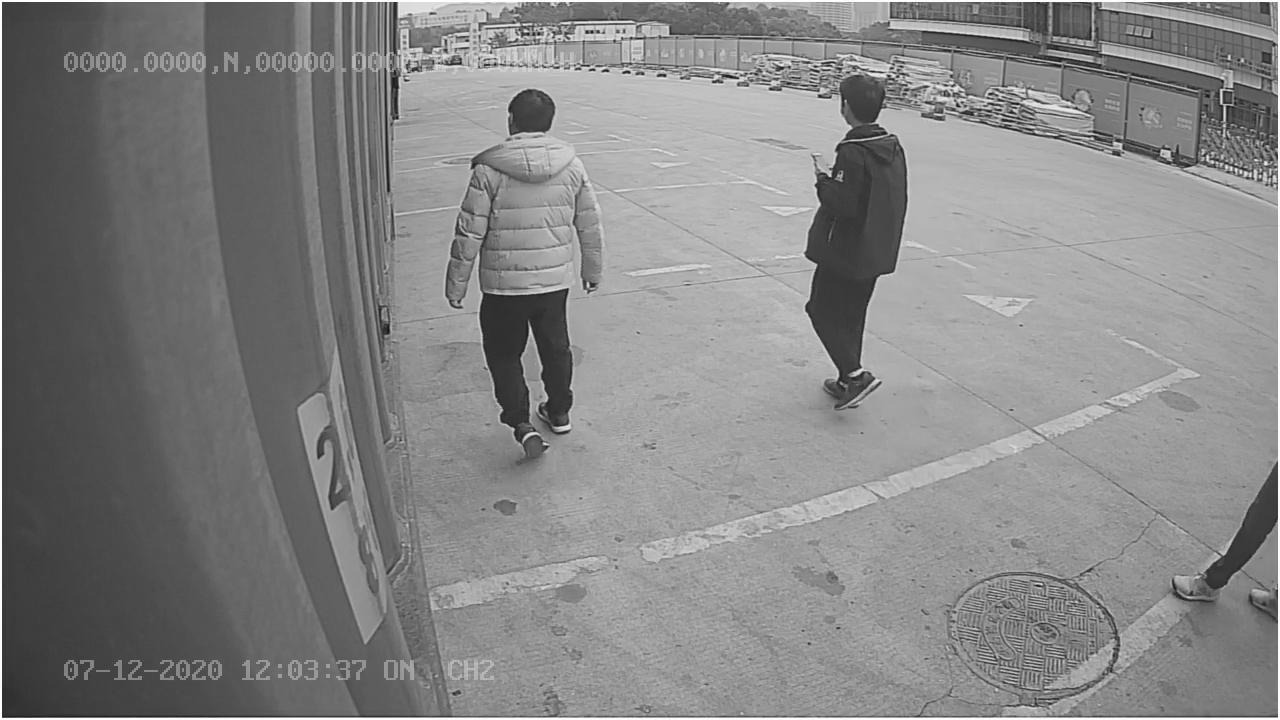person: (444, 81, 609, 464), (797, 71, 907, 412)
